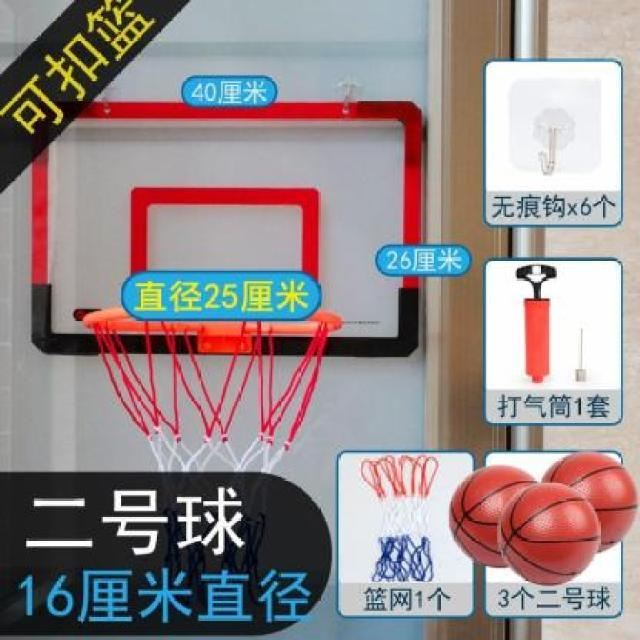basketball: (500, 482, 602, 586), (546, 451, 640, 554), (450, 464, 534, 568)
